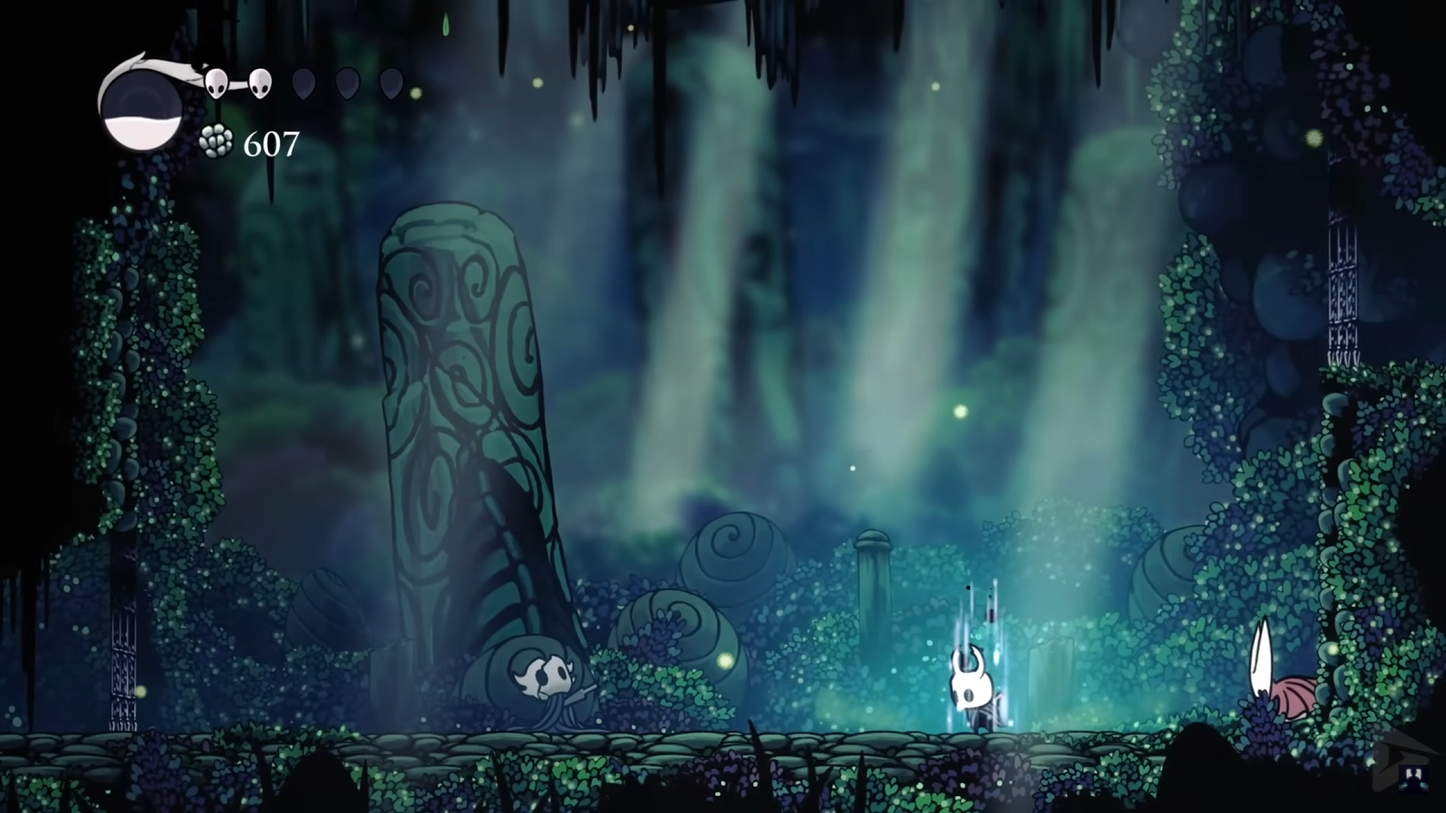HK: (943, 642, 1007, 731)
